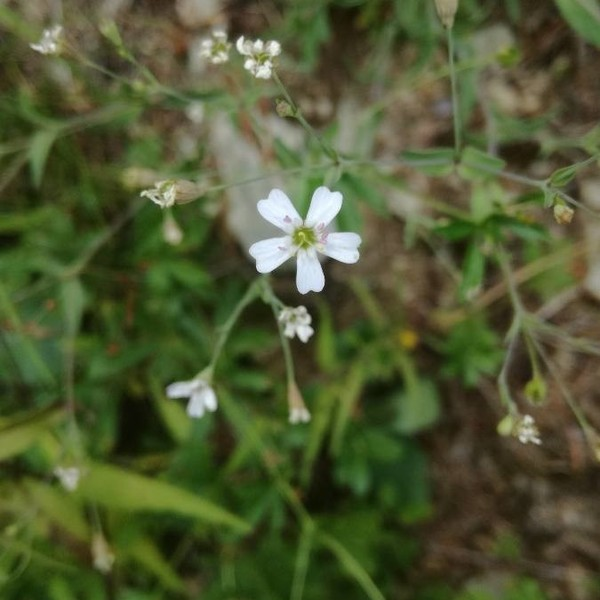obstacle: (171, 61, 413, 414)
